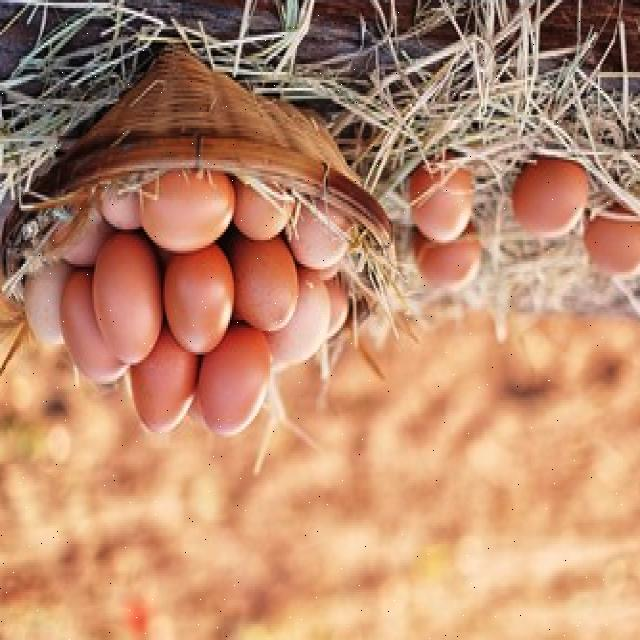Brown Egg: (90, 232, 162, 372), (161, 251, 233, 357), (142, 176, 232, 260), (509, 161, 594, 246), (198, 339, 266, 438), (229, 244, 301, 333), (407, 166, 481, 245), (139, 345, 195, 449), (579, 209, 640, 283), (412, 234, 477, 289)
